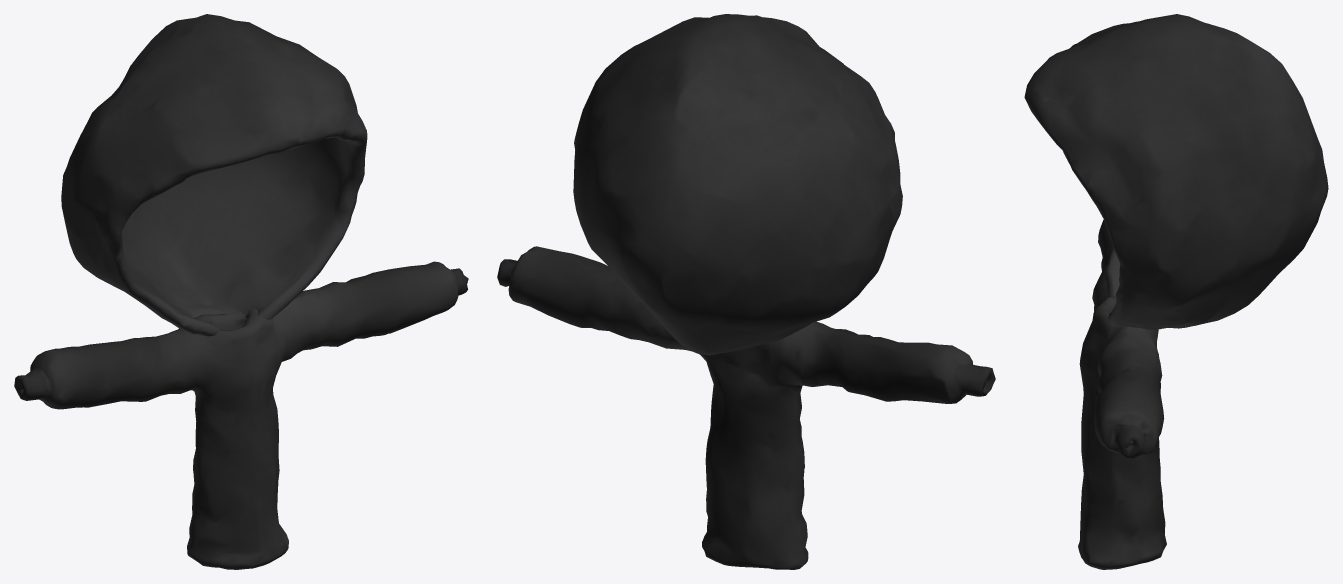
File: hoodie gray.glb
The picture shows the model from 3 angles, left to right: view 1: azimuth 30°, elevation 25°; view 2: azimuth 150°, elevation 25°; view 3: azimuth 270°, elevation 25°; orthographic projection. The views are drawn at different scales.
Visible parts, largest first — view 1: shirt_hoodie_up_dark_gray.001; view 2: shirt_hoodie_up_dark_gray.001; view 3: shirt_hoodie_up_dark_gray.001.
Boxes of the visible parts, x1,y1,x2,y2 form: shirt_hoodie_up_dark_gray.001: (14, 14, 468, 569); shirt_hoodie_up_dark_gray.001: (497, 14, 995, 569); shirt_hoodie_up_dark_gray.001: (1024, 14, 1328, 569).
Size of the model in its own units: 0.7057 by 0.7667 by 0.3931.
Materials: 2 (2 with a texture image).
